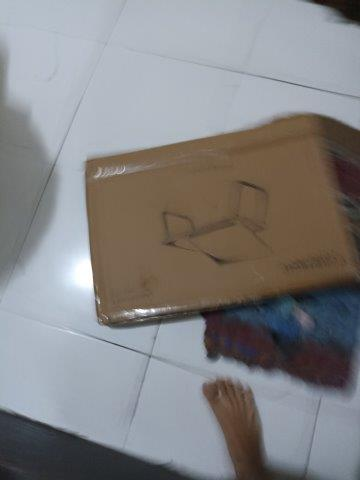kardus: (86, 119, 354, 319)
